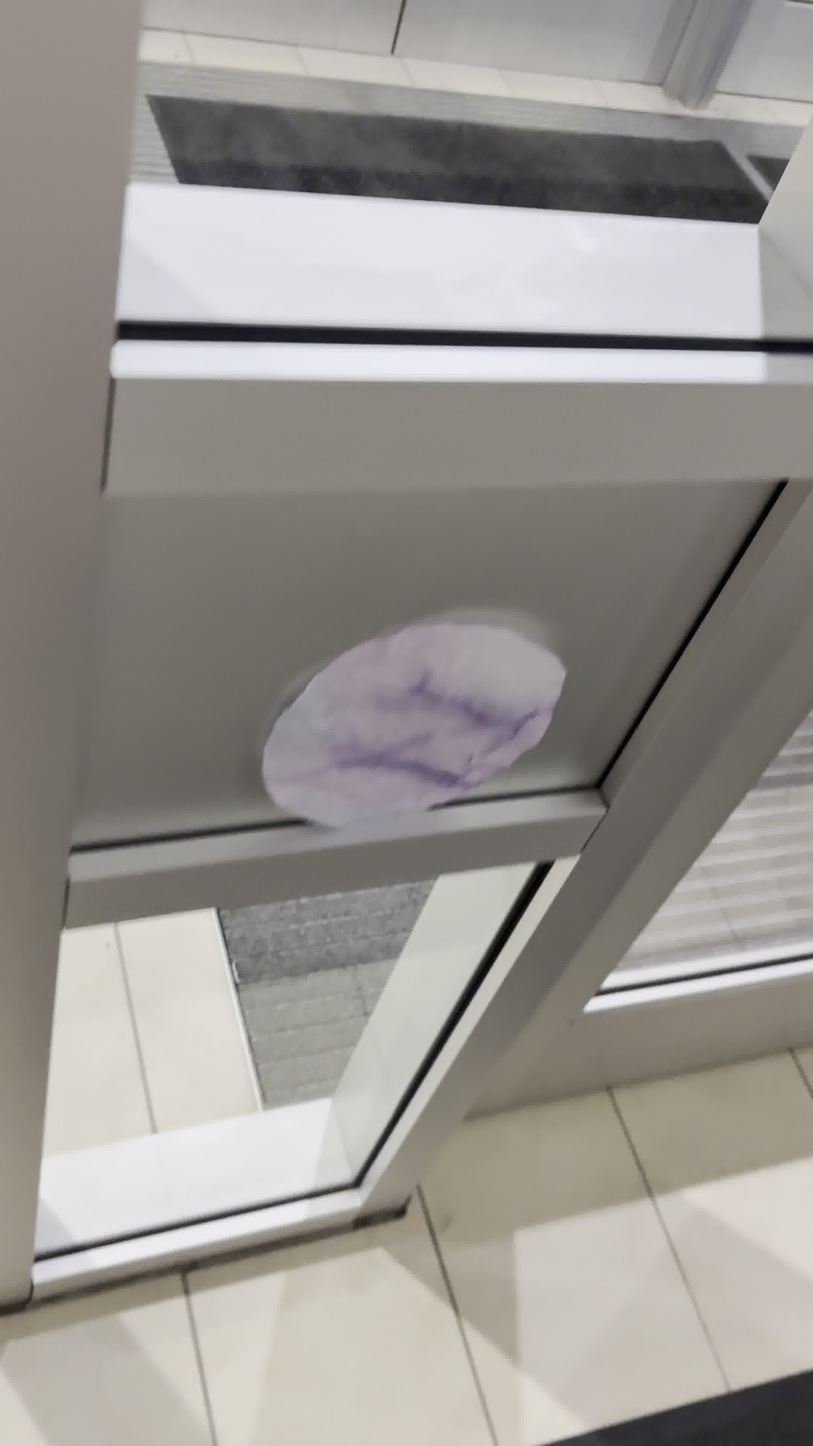Target: (254, 613, 576, 842)
